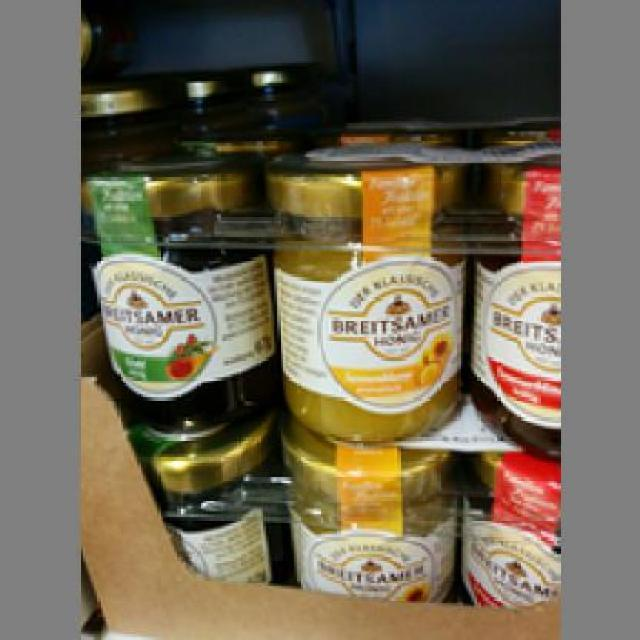Honey: (268, 168, 472, 426), (78, 169, 272, 420), (277, 428, 463, 598)
